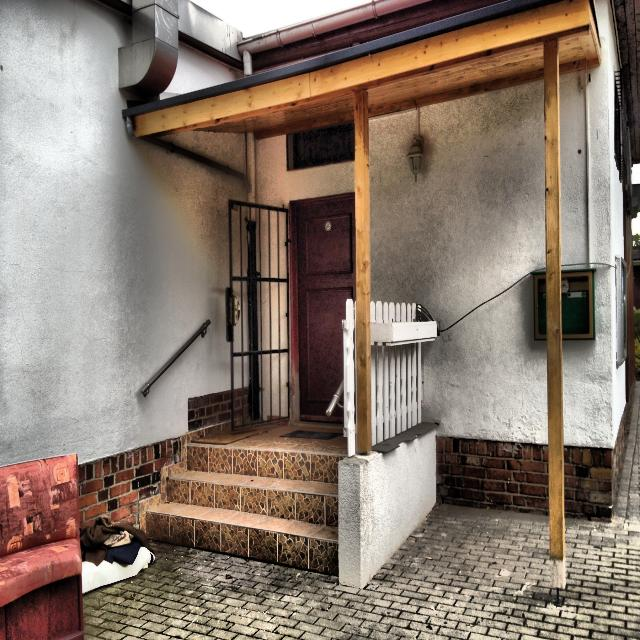escada: (135, 439, 339, 578)
